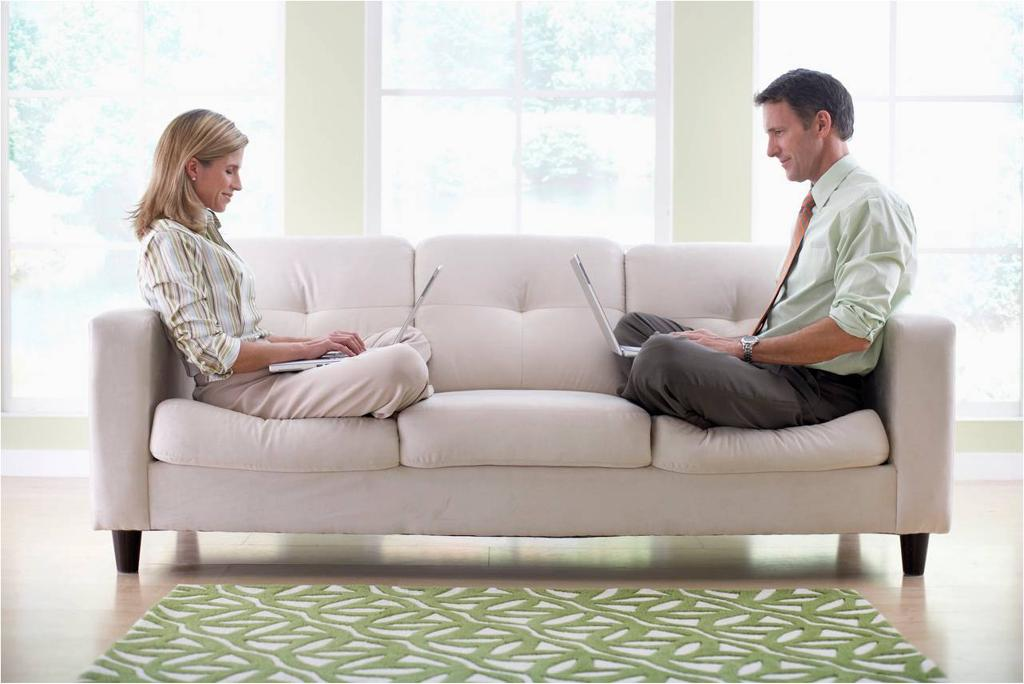face: (762, 97, 814, 181), (201, 144, 244, 212)
